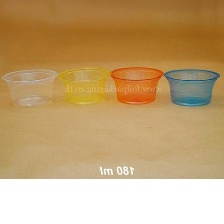glass: (52, 64, 112, 107), (0, 67, 59, 109), (161, 67, 222, 107), (108, 66, 166, 107)
